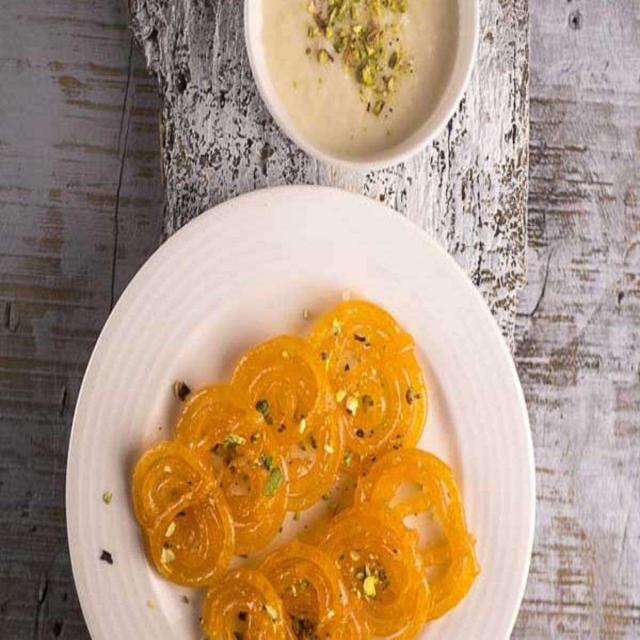jalebi: (117, 317, 481, 640)
